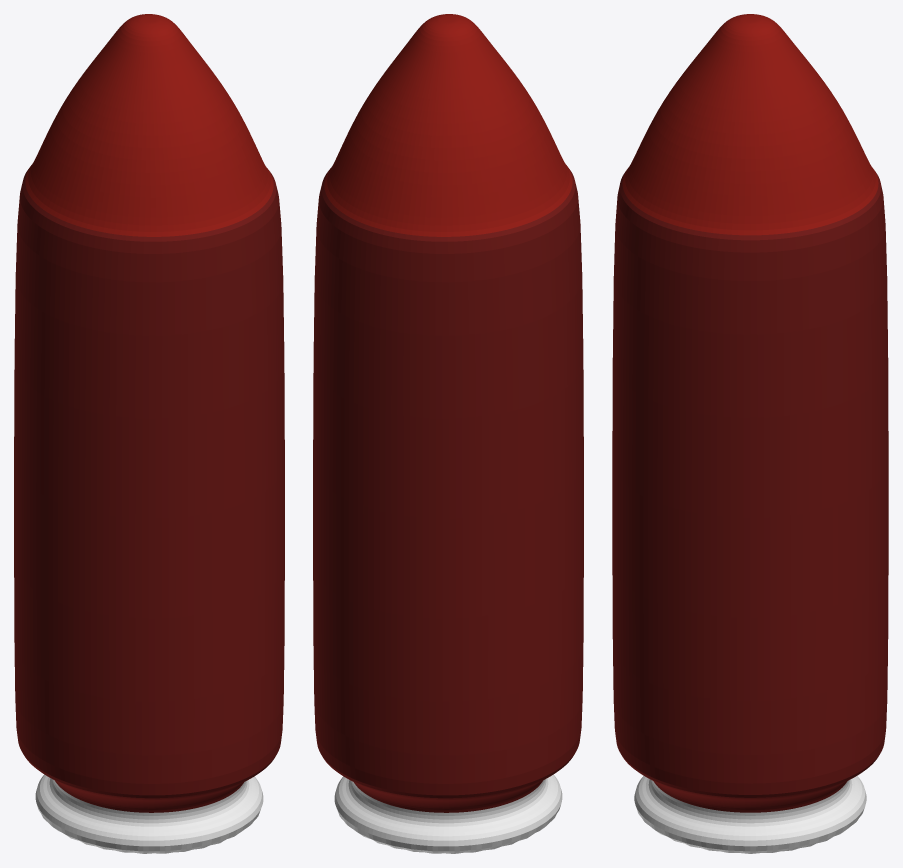
The model's file is bullet.fbx.
3 views of the same model, side by side, from view 1: azimuth 30°, elevation 25°; view 2: azimuth 150°, elevation 25°; view 3: azimuth 270°, elevation 25° (orthographic).
Visible parts, largest first — view 1: Cylinder; view 2: Cylinder; view 3: Cylinder.
Boxes of the visible parts, x1,y1,x2,y2 form: Cylinder: (14, 14, 284, 853); Cylinder: (313, 14, 583, 853); Cylinder: (612, 14, 888, 853).
Bounding box in the file's own units: 103 × 339 × 106.
